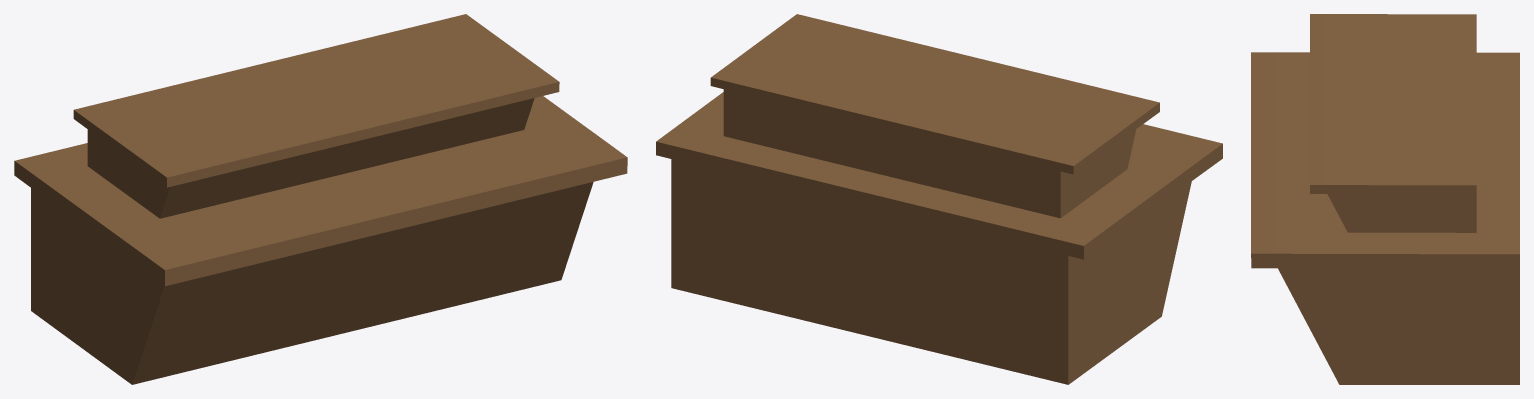
The model's file is Market_Table_02.fbx.
3 renders of one model, left to right at view 1: azimuth 30°, elevation 25°; view 2: azimuth 150°, elevation 25°; view 3: azimuth 270°, elevation 25°, orthographic. The views are drawn at different scales.
Parts seen in each view (by area): view 1: Market_Table_02; view 2: Market_Table_02; view 3: Market_Table_02.
Part boxes in pixels (x1,y1,x2,y2): Market_Table_02: (14, 14, 627, 384); Market_Table_02: (656, 14, 1222, 384); Market_Table_02: (1251, 14, 1519, 384).
Size of the model in its own units: 2.12 by 0.9397 by 1.19.
